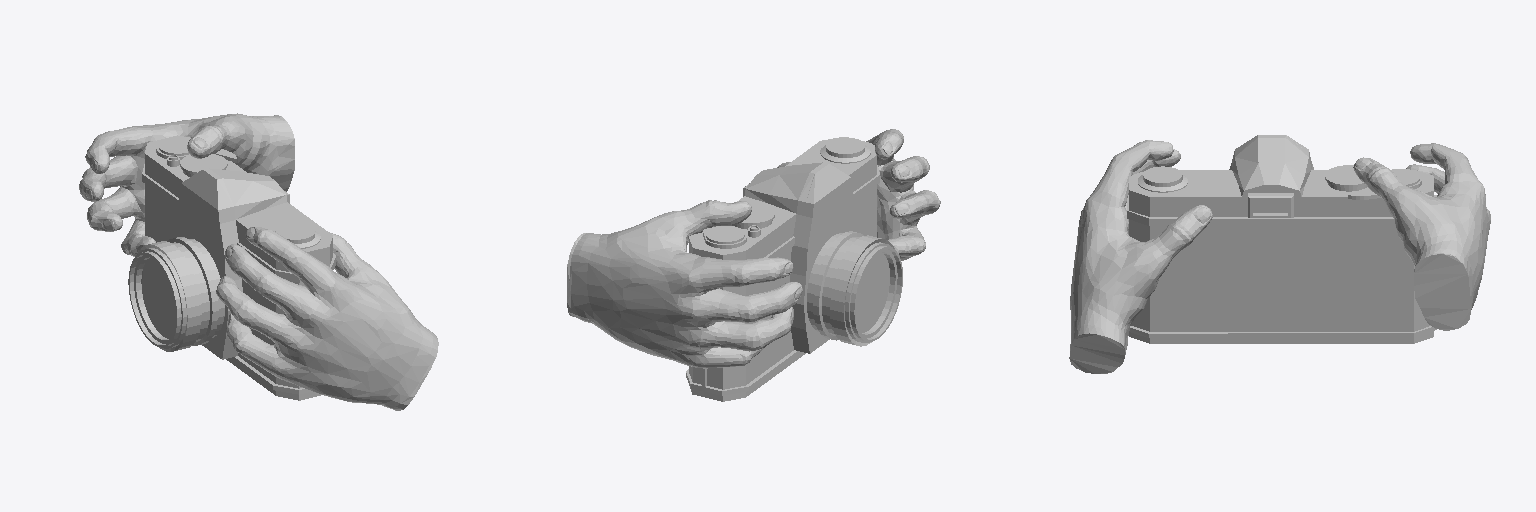
File: spotmatic.obj
The picture shows the model from 3 angles: view 1: azimuth 30°, elevation 25°; view 2: azimuth 150°, elevation 25°; view 3: azimuth 270°, elevation 25°; orthographic projection.
Parts seen in each view (by area): view 1: Roue_Vues.002_Cylinder.002; view 2: Roue_Vues.002_Cylinder.002; view 3: Roue_Vues.002_Cylinder.002.
Part boxes in pixels (bbox=[...]): Roue_Vues.002_Cylinder.002: bbox=[79, 113, 438, 410]; Roue_Vues.002_Cylinder.002: bbox=[567, 129, 940, 401]; Roue_Vues.002_Cylinder.002: bbox=[1069, 135, 1490, 373].
Size of the model in its own units: 17.77 by 15.32 by 30.29.